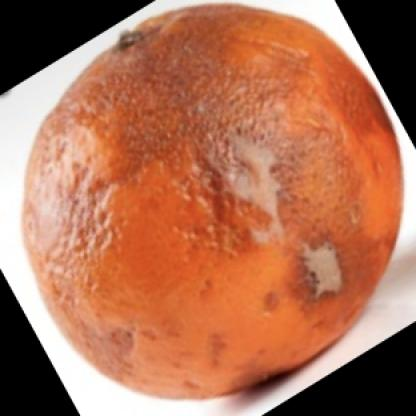rotten: (26, 4, 404, 398)
